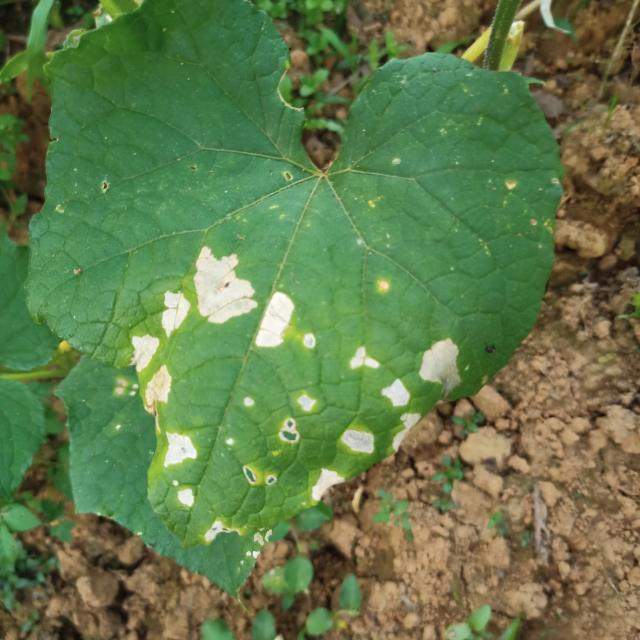disease_cucumber: (190, 245, 293, 351), (130, 336, 173, 405), (418, 342, 468, 400), (163, 430, 199, 509), (380, 378, 420, 444), (280, 389, 320, 445), (158, 291, 194, 336), (303, 462, 343, 501), (337, 427, 376, 456), (348, 340, 381, 373)
